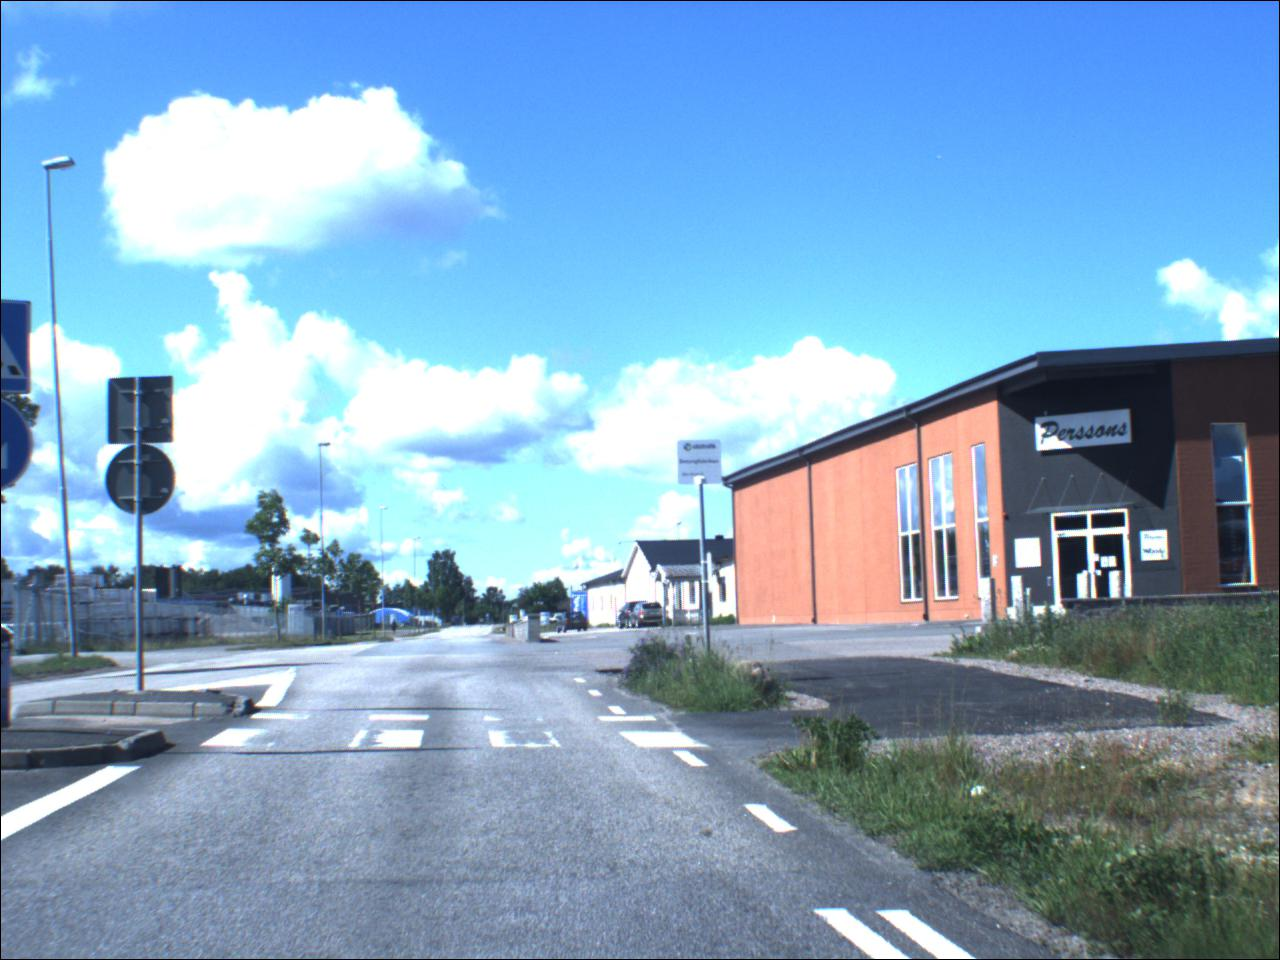PASS_RIGHT_SIDE: (4, 402, 36, 494)
PEDESTRIAN_CROSSING: (3, 301, 34, 396)
